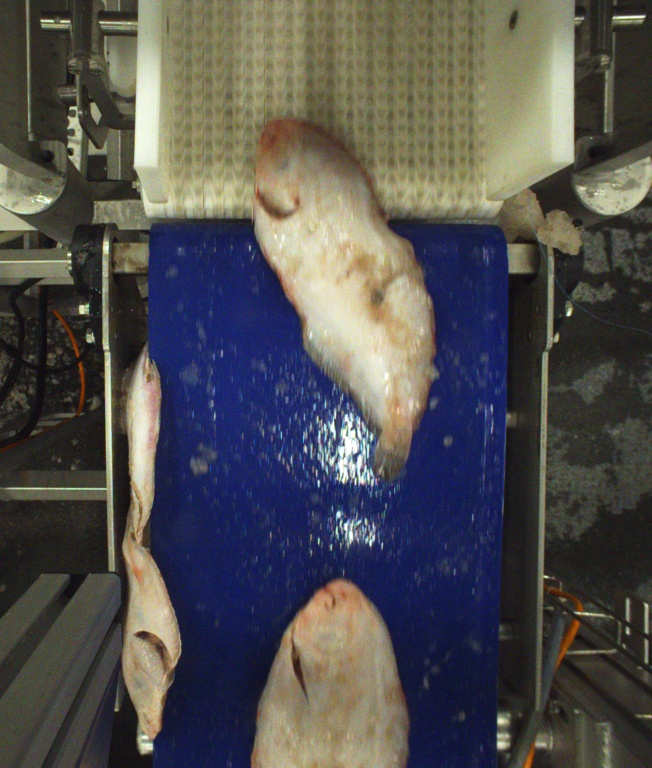SOL: (253, 118, 435, 476)
